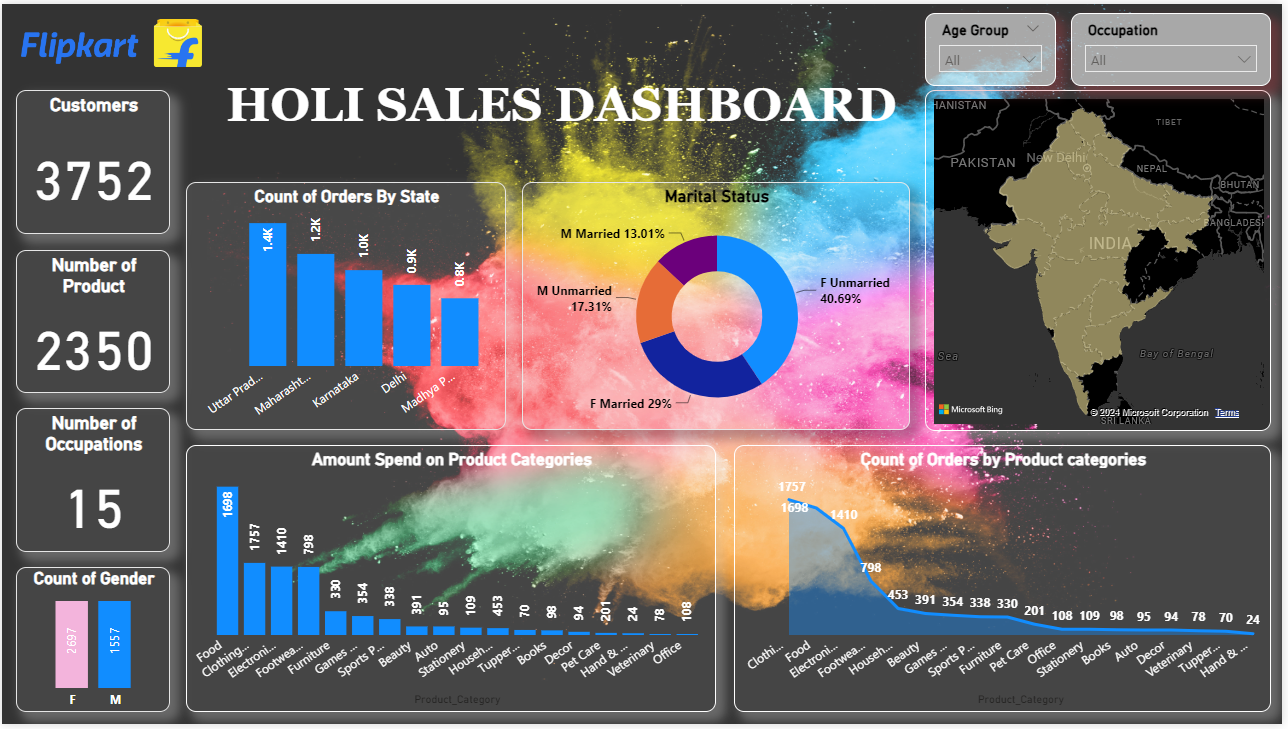

What the dashboard file says about the page in this screenshot:
{"tool":"powerbi","page":{"name":"Page 1","canvas":[1280,720],"ordinal":0},"visuals":[{"type":"card","title":"Customers","fields":{"Values":["Count(Sheet1.User_ID)"]},"box":[14,86,154,144],"z":0},{"type":"card","title":"Number of Product","fields":{"Values":["Count(Sheet1.Product_ID)"]},"box":[14,246,154,143],"z":1000},{"type":"card","title":"Number of Occupations","fields":{"Values":["Count(Sheet1.Occupation)"]},"box":[14,404,154,144],"z":2000},{"type":"hundredPercentStackedColumnChart","title":"Count of Gender","fields":{"Category":["Sheet1.Gender"],"Y":["Count(Sheet1.User_ID)"]},"box":[14,563,154,145],"z":3000},{"type":"filledMap","fields":{"Category":["Sheet1.State"]},"box":[923,86,346,341],"z":4000},{"type":"columnChart","title":"Count of Orders By State","fields":{"Category":["Sheet1.State"],"Y":["CountNonNull(Sheet1.Orders)"]},"box":[183.8,177.5,320,248.8],"z":5000},{"type":"donutChart","title":"Marital Status","fields":{"Category":["Sheet1.Gender","Sheet1.Marital_Status"],"Y":["CountNonNull(Sheet1.Marital_Status)"]},"box":[520,177.5,387.5,248.8],"z":6000},{"type":"columnChart","title":"Amount Spend on Product Categories","fields":{"Y":["Sum(Sheet1.Amount)"],"Category":["Sheet1.Product_Category"]},"box":[184,441,530,267],"z":7000},{"type":"slicer","fields":{"Values":["Sheet1.Occupation"]},"box":[1069.1,9.1,200,72.7],"z":8000},{"type":"slicer","fields":{"Values":["Sheet1.Age Group"]},"box":[922.7,9.1,130.9,72.7],"z":9000},{"type":"areaChart","title":"Count of Orders by Product categories","fields":{"Category":["Sheet1.Product_Category"],"Y":["CountNonNull(Sheet1.Orders)"]},"box":[731.8,440.9,537.3,267.3],"z":10000},{"type":"image","box":[13.6,9.1,191.8,59.1],"z":11000},{"type":"textbox","box":[205.5,68.2,708.2,68.2],"z":12000}]}

Visuals, with their boxes in screenshot pixels (x1, y1, x2, y2), scaled from the page's 1280x720 canvas onto the 1288x729 screenshot:
"Customers" card: <region>14, 87, 169, 233</region>
"Number of Product" card: <region>14, 249, 169, 394</region>
"Number of Occupations" card: <region>14, 409, 169, 555</region>
"Count of Gender" hundredPercentStackedColumnChart: <region>14, 570, 169, 717</region>
filledMap - Sheet1.State: <region>929, 87, 1277, 432</region>
"Count of Orders By State" columnChart: <region>185, 180, 507, 432</region>
"Marital Status" donutChart: <region>523, 180, 913, 432</region>
"Amount Spend on Product Categories" columnChart: <region>185, 447, 718, 717</region>
slicer - Sheet1.Occupation: <region>1076, 9, 1277, 83</region>
slicer - Sheet1.Age Group: <region>928, 9, 1060, 83</region>
"Count of Orders by Product categories" areaChart: <region>736, 446, 1277, 717</region>
image: <region>14, 9, 207, 69</region>
textbox: <region>207, 69, 919, 138</region>
